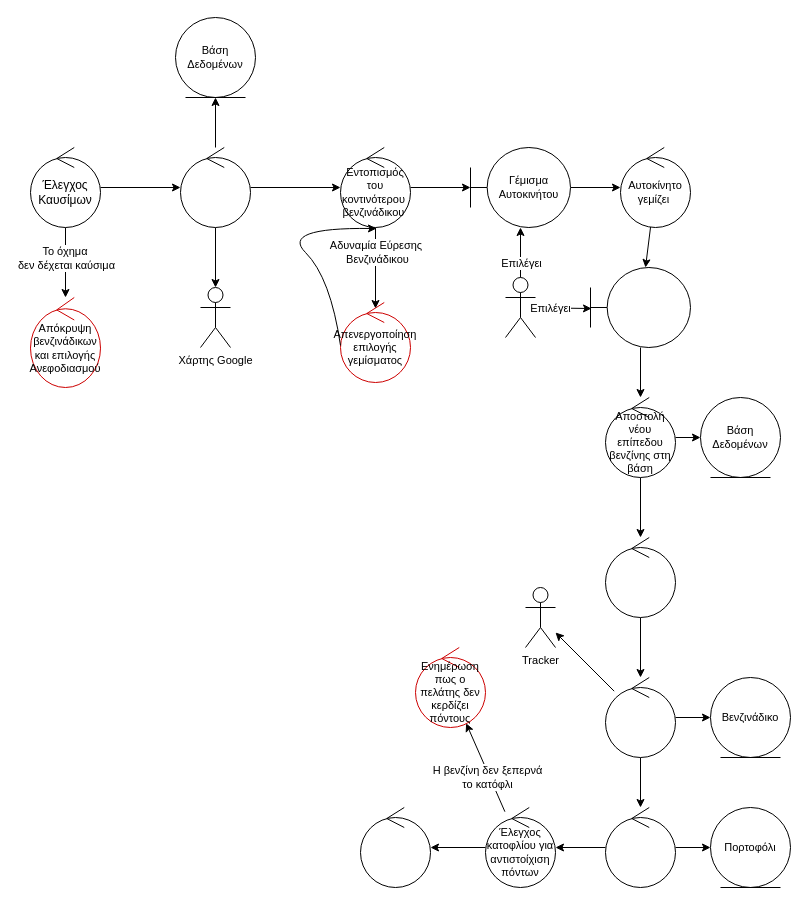
This 808x905 diagram has some shape labels left out. Here are the shapes that lost their labels. From the top down, the centre of each, then its label:
pixel 215 187: Ανάκτηση και Εμφάνιση όλων των βενζινάδικων
pixel 520 307: Customer
pixel 640 307: Ολοκλήρωση
pixel 640 577: Υπολογισμός ποσού που έβαλε ο πελάτης
pixel 640 717: Ανάκτηση κόστους βενζίνης απο βενζινάδικο και υπολγισμός κόστους
pixel 395 847: Υπολογισμός και Αποθήκευση πόντων στο πορτοφόλι
pixel 640 847: Προσθήκη στο πορτοφόλι το ποσό που έβαλε
